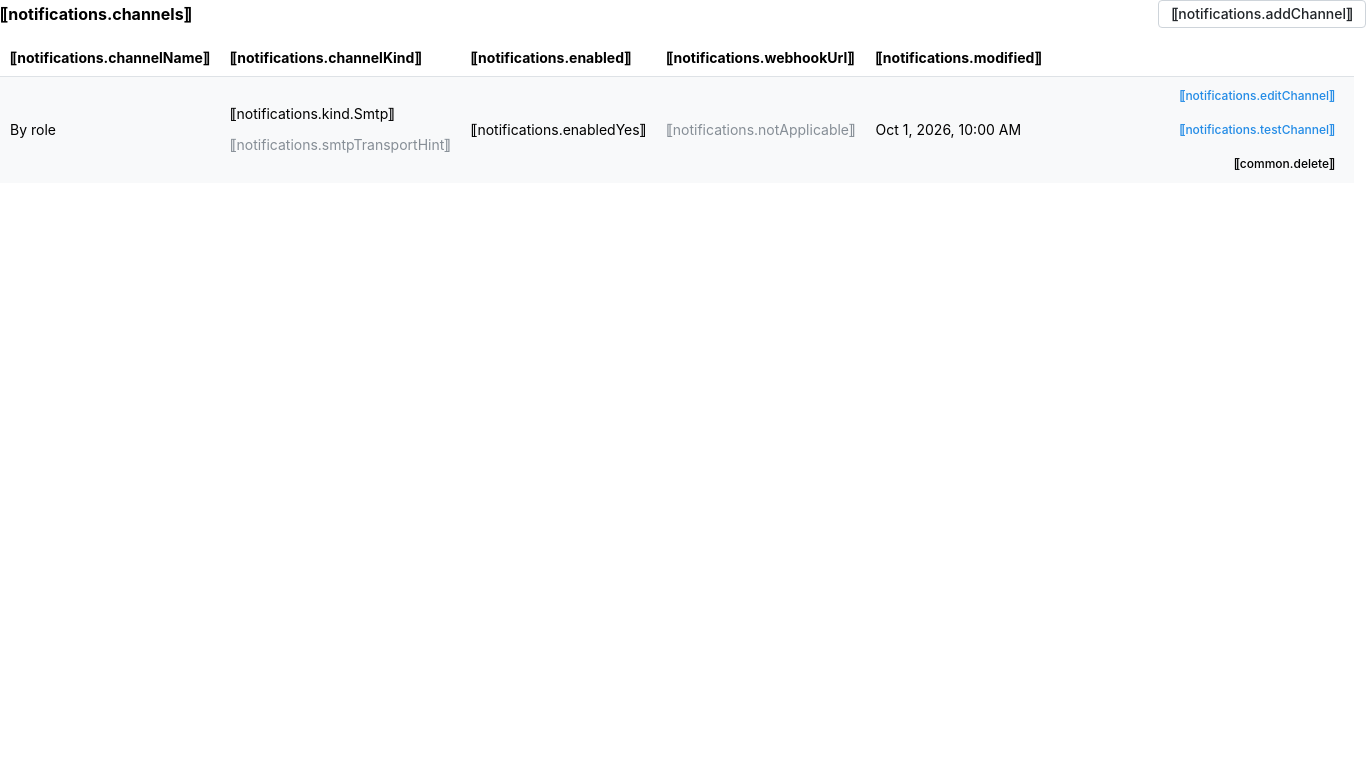
Scenario: ChannelsPanel: ролі-адресати › з правом ManageRoles ролі показані вибором, код ролі — підписом
Click the button "⟦notifications.editChannel⟧".
click(1257, 96)  # box [1170,84,1344,108]
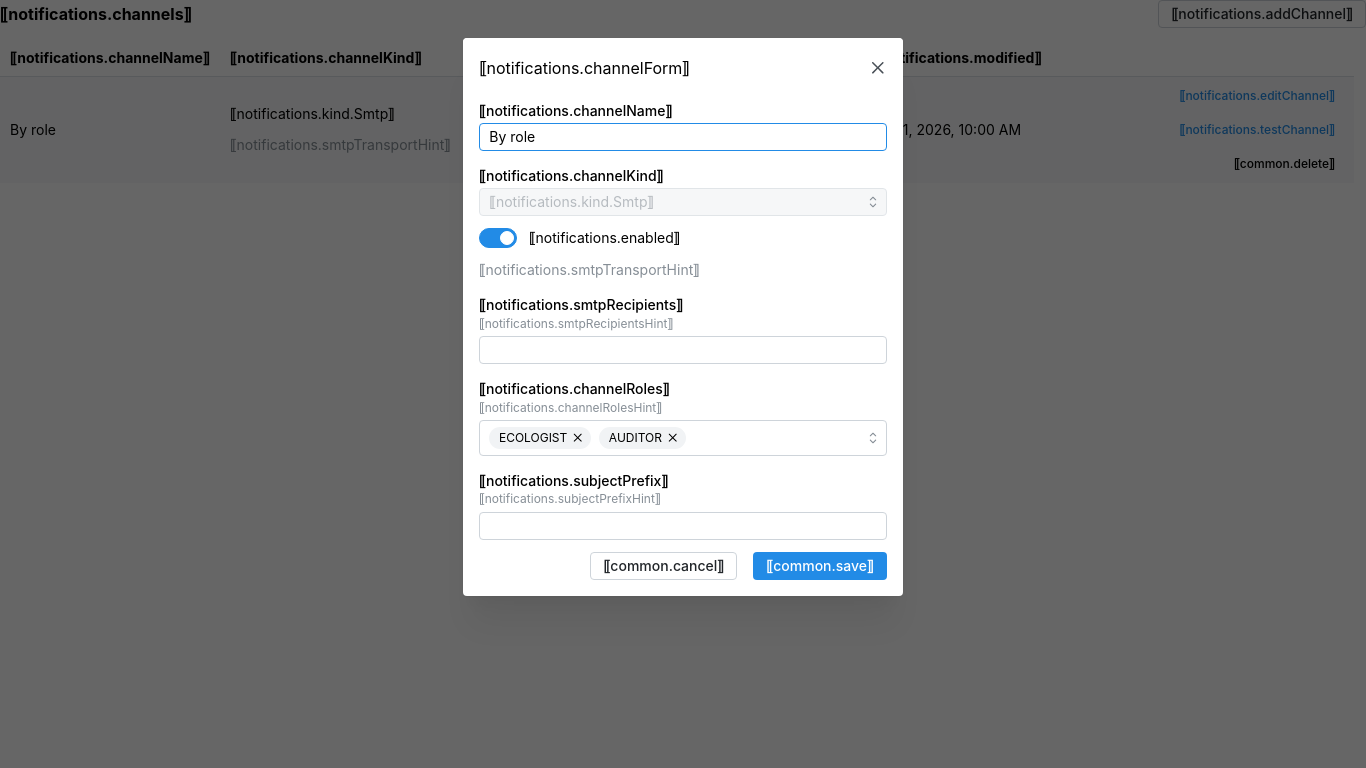
Now the text "ECOLOGIST" is shown, box [499,427,567,449]
Now the text "AUDITOR" is shown, box [609,427,662,449]
